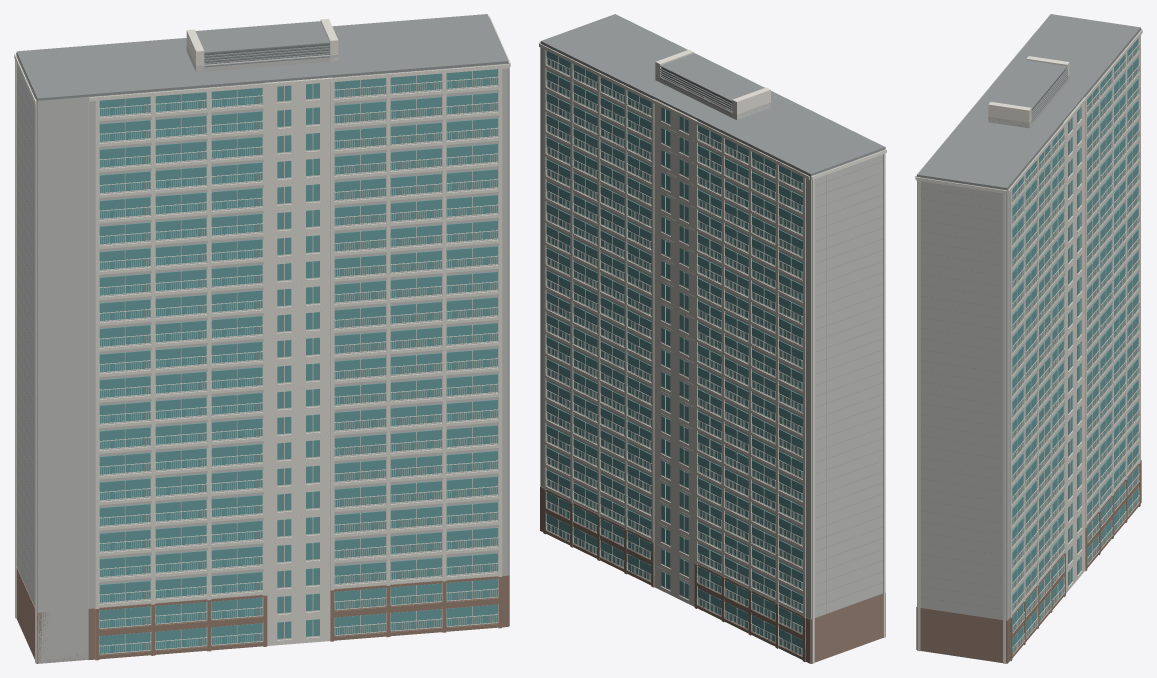
The model's file is bespoke-jamsil-els-153.glb.
The picture shows the model from 3 angles, left to right: view 1: azimuth 30°, elevation 25°; view 2: azimuth 150°, elevation 25°; view 3: azimuth 270°, elevation 25°; orthographic projection. The views are drawn at different scales.
Parts seen in each view (by area): view 1: Els153_editable_Els153_turquoise_balcony_glazing, Els153_editable_Els153_light_grey_solid_wall, Els153_white_exact_chunk_3, Els153_white_exact_chunk_2, Els153_white_exact_chunk_4, Els153_editable_Els153_modest_grey_flat_roof_caps, Els153_white_exact_chunk_5, Els153_editable_Els153_muted_ground_wall, Els153_editable_Shared-wall_clipped_surface_0004, Els153_editable_Els153_narrow_charcoal_service_strips; view 2: Els153_editable_Els153_turquoise_balcony_glazing, Els153_editable_Els153_light_grey_solid_wall, Els153_white_exact_chunk_0, Els153_white_exact_chunk_1, Els153_white_exact_chunk_2, Els153_editable_Els153_modest_grey_flat_roof_caps, Els153_editable_Els153_muted_ground_wall, Els153_editable_Shared-wall_clipped_surface_0004, Els153_white_exact_chunk_5; view 3: Els153_editable_Els153_light_grey_solid_wall, Els153_editable_Els153_turquoise_balcony_glazing, Els153_white_exact_chunk_0, Els153_editable_Els153_modest_grey_flat_roof_caps, Els153_white_exact_chunk_1, Els153_white_exact_chunk_2, Els153_editable_Els153_muted_ground_wall, Els153_white_exact_chunk_5.
Boxes of the visible parts, box(x1,y1,x2,y2) form: Els153_editable_Els153_turquoise_balcony_glazing: box(99, 69, 497, 653); Els153_editable_Els153_light_grey_solid_wall: box(16, 45, 508, 663); Els153_white_exact_chunk_3: box(95, 83, 386, 659); Els153_white_exact_chunk_2: box(14, 52, 331, 663); Els153_white_exact_chunk_4: box(334, 69, 498, 631); Els153_editable_Els153_modest_grey_flat_roof_caps: box(16, 14, 508, 607); Els153_white_exact_chunk_5: box(89, 16, 510, 641); Els153_editable_Els153_muted_ground_wall: box(89, 574, 509, 660); Els153_editable_Shared-wall_clipped_surface_0004: box(16, 566, 88, 663); Els153_editable_Els153_narrow_charcoal_service_strips: box(204, 43, 329, 62); Els153_editable_Els153_turquoise_balcony_glazing: box(546, 51, 802, 655); Els153_editable_Els153_light_grey_solid_wall: box(540, 43, 885, 619); Els153_white_exact_chunk_0: box(545, 50, 697, 606); Els153_white_exact_chunk_1: box(543, 46, 748, 629); Els153_white_exact_chunk_2: box(539, 43, 886, 663); Els153_editable_Els153_modest_grey_flat_roof_caps: box(540, 14, 885, 617); Els153_editable_Els153_muted_ground_wall: box(540, 486, 810, 663); Els153_editable_Shared-wall_clipped_surface_0004: box(811, 593, 885, 663); Els153_white_exact_chunk_5: box(539, 42, 770, 485); Els153_editable_Els153_light_grey_solid_wall: box(917, 29, 1140, 620); Els153_editable_Els153_turquoise_balcony_glazing: box(1012, 38, 1138, 653); Els153_white_exact_chunk_0: box(1012, 97, 1085, 654); Els153_editable_Els153_modest_grey_flat_roof_caps: box(917, 14, 1140, 619); Els153_white_exact_chunk_1: box(1010, 86, 1113, 660); Els153_white_exact_chunk_2: box(1008, 28, 1142, 570); Els153_editable_Els153_muted_ground_wall: box(916, 460, 1141, 663); Els153_white_exact_chunk_5: box(915, 33, 1069, 663).
Bounding box in the file's own units: 47.82 × 62.6 × 26.18.
